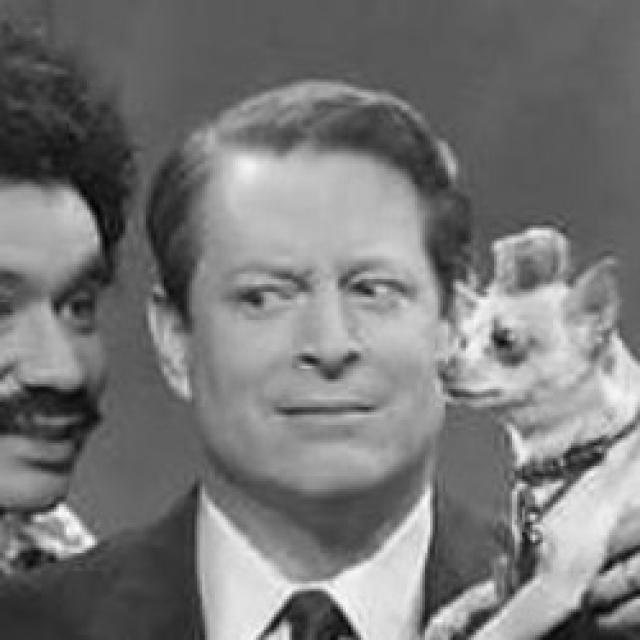real: (162, 132, 454, 500), (0, 85, 112, 531), (225, 259, 420, 318), (0, 287, 97, 332)
